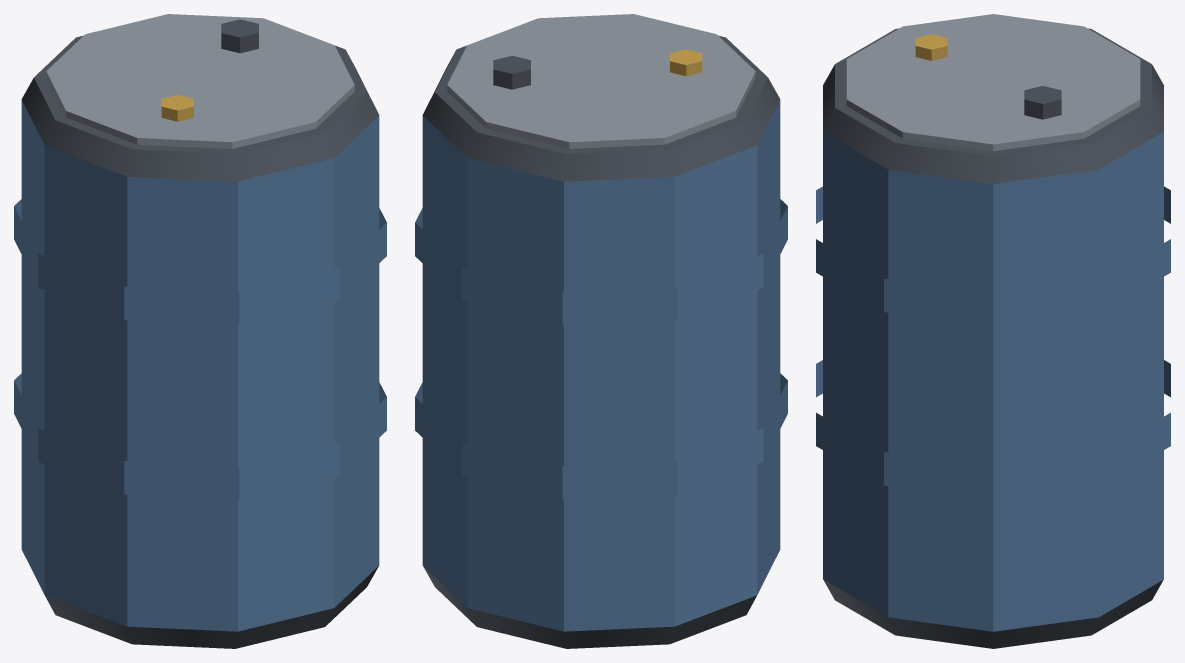
File: barrel.glb
The picture shows the model from 3 angles, left to right: view 1: azimuth 30°, elevation 25°; view 2: azimuth 150°, elevation 25°; view 3: azimuth 270°, elevation 25°; orthographic projection.
Parts seen in each view (by area): view 1: Body; view 2: Body; view 3: Body.
Boxes of the visible parts, box(x1,y1,x2,y2) form: Body: box(14, 14, 386, 648); Body: box(415, 14, 787, 648); Body: box(816, 14, 1170, 648).
Size of the model in its own units: 0.604 by 0.92 by 0.5744.
